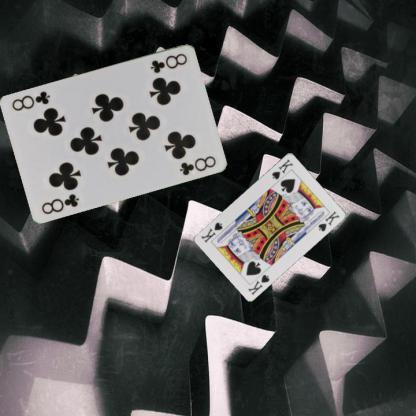8c: (39, 190, 81, 216), (148, 50, 189, 74)
Ks: (245, 271, 272, 296), (269, 156, 295, 180)
